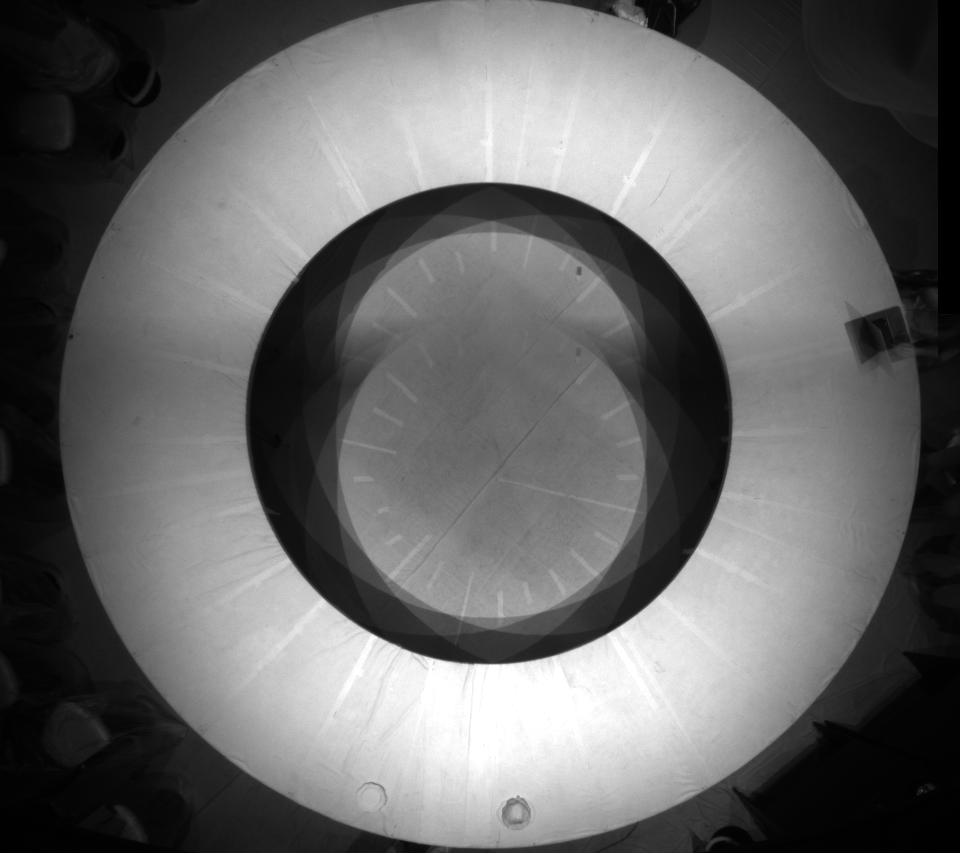Plate: (494, 791, 536, 833)
